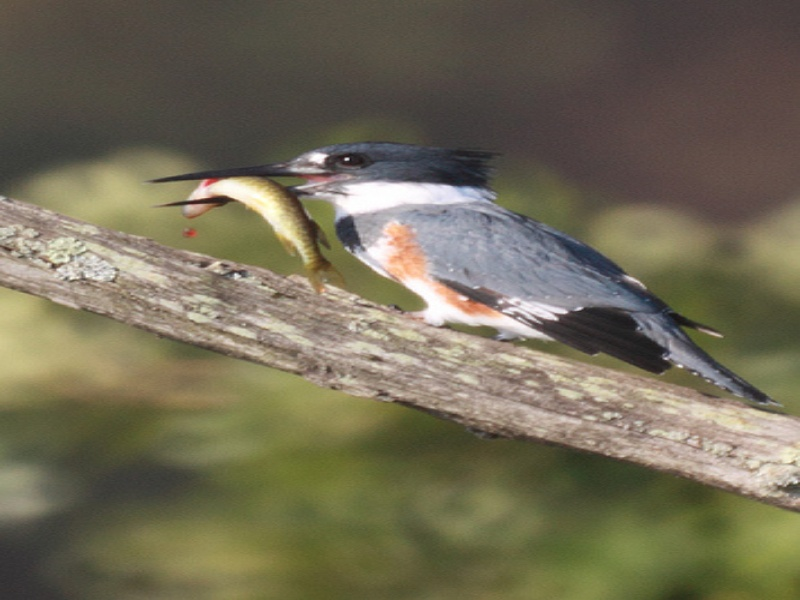kingfisher: (146, 139, 783, 407)
